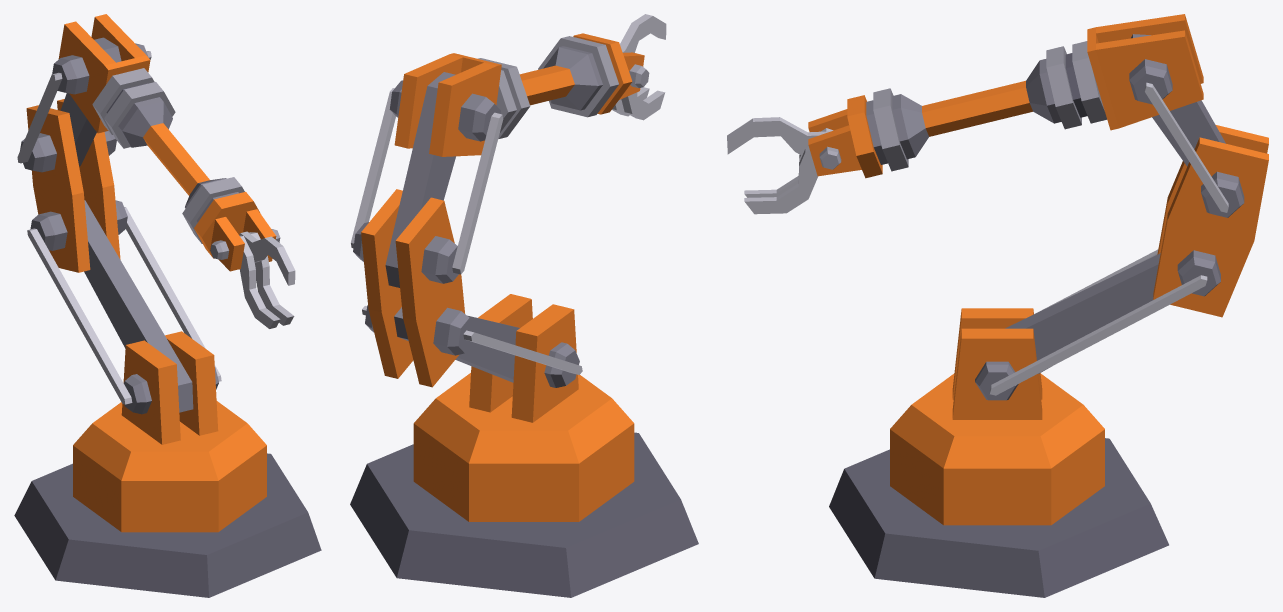
The model's file is Robo_Hand.fbx.
3 renders of one model, left to right at view 1: azimuth 30°, elevation 25°; view 2: azimuth 150°, elevation 25°; view 3: azimuth 270°, elevation 25°, orthographic. The views are drawn at different scales.
Parts seen in each view (by area): view 1: Shoulder1, Base1, Middle_Arm_3, Upper_Arm1, Upper_Forearm1, Forearm1, Wrist1, Middle_Arm_4, Fingers_3, Fingers_4; view 2: Shoulder1, Base1, Middle_Arm_3, Upper_Forearm1, Middle_Arm_4, Forearm1, Upper_Arm1, Wrist1, Fingers_3, Fingers_4; view 3: Shoulder1, Base1, Middle_Arm_3, Upper_Forearm1, Forearm1, Upper_Arm1, Wrist1, Middle_Arm_4, Fingers_3, Fingers_4.
Part boxes in pixels (x1,y1,x2,y2): Shoulder1: (73,331,266,532); Base1: (14,453,321,597); Middle_Arm_3: (20,99,127,272); Upper_Arm1: (27,200,221,412); Upper_Forearm1: (52,14,154,134); Forearm1: (104,82,244,243); Wrist1: (194,191,280,271); Middle_Arm_4: (17,37,151,166); Fingers_3: (239,232,294,328); Fingers_4: (239,231,295,285); Shoulder1: (413,294,634,521); Base1: (350,432,698,597); Middle_Arm_3: (353,189,475,387); Upper_Forearm1: (389,53,516,156); Middle_Arm_4: (351,72,503,287); Forearm1: (478,36,618,138); Upper_Arm1: (362,306,582,382); Wrist1: (573,33,649,114); Fingers_3: (612,87,665,120); Fingers_4: (620,14,666,52); Shoulder1: (890,308,1104,525); Base1: (829,438,1168,597); Middle_Arm_3: (1153,124,1268,317); Upper_Forearm1: (1065,14,1203,130); Forearm1: (866,46,1081,171); Upper_Arm1: (989,249,1207,395); Wrist1: (808,95,882,178); Middle_Arm_4: (1131,34,1228,212); Fingers_3: (744,128,833,214); Fingers_4: (727,117,830,155).
Size of the model in its own units: 9.49 by 15.42 by 15.1.
1 material, 1 textured.
